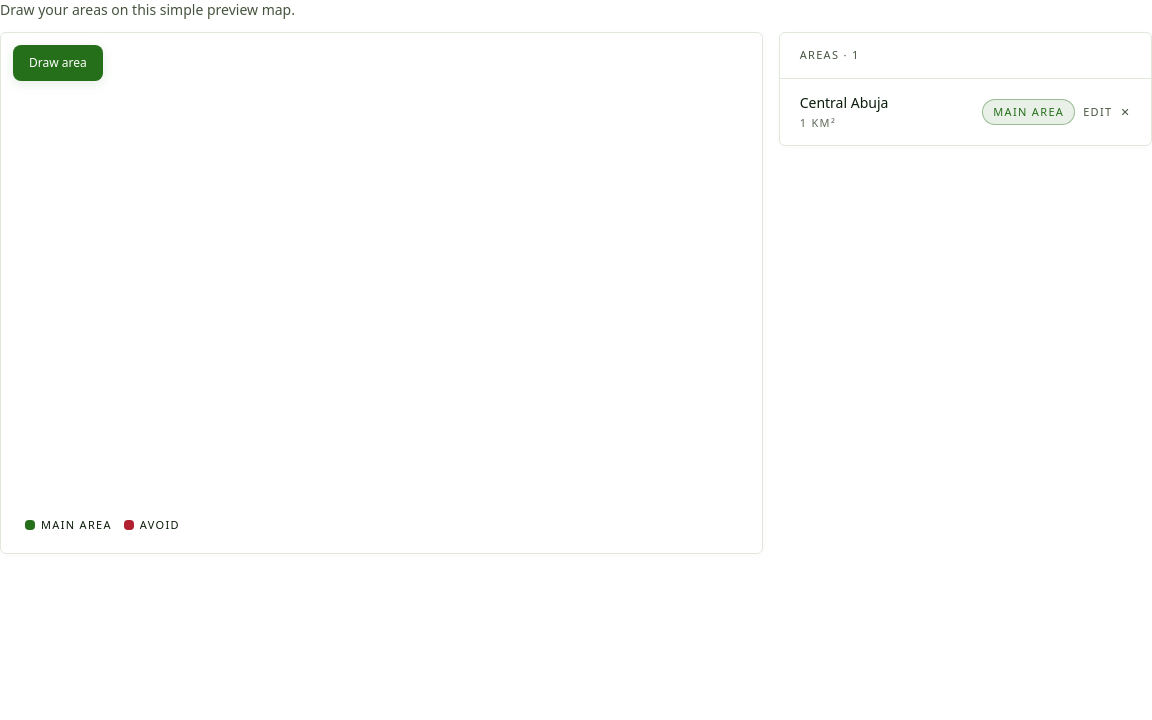
Test: ZonesEditor MapLibre compatibility › confirms deletion once and surfaces a refusal
Click the button named "Delete Central Abuja": coordinates (1126, 112) 1120,104 -> 1131,120
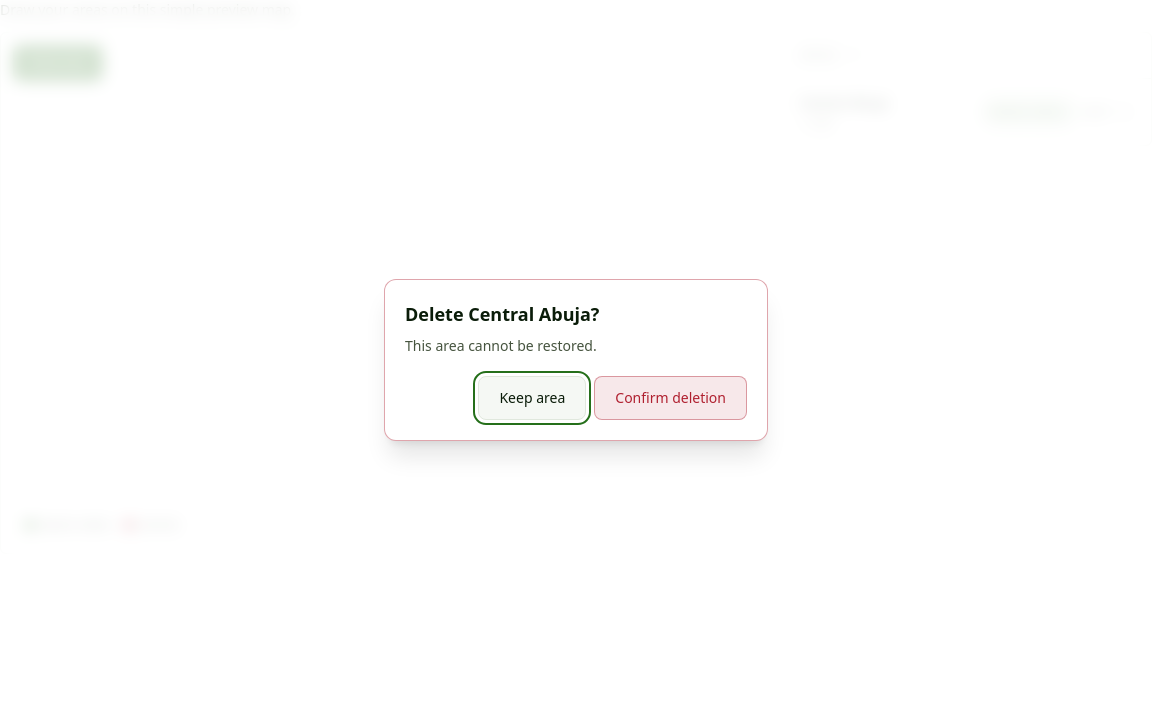
Click the button "Confirm deletion": coordinates (671, 398) 594,376 -> 747,420
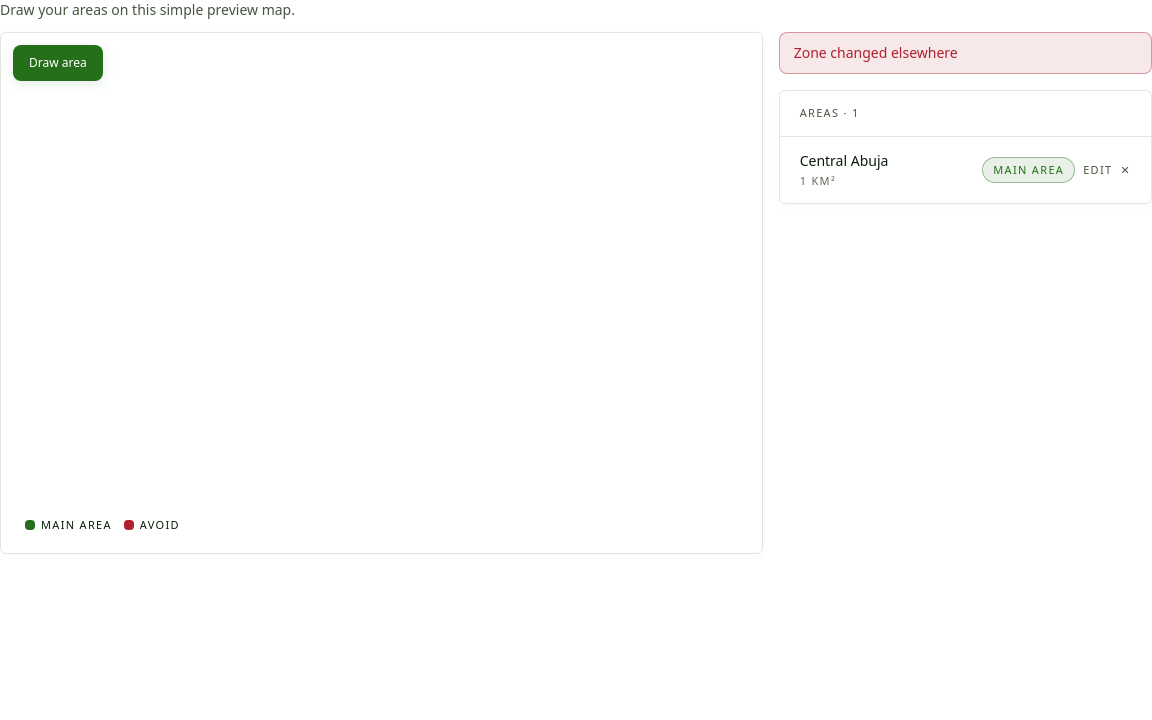
Expected: the message reads "Zone changed elsewhere", 794,43 -> 958,62
Expected: the dialog is gone
